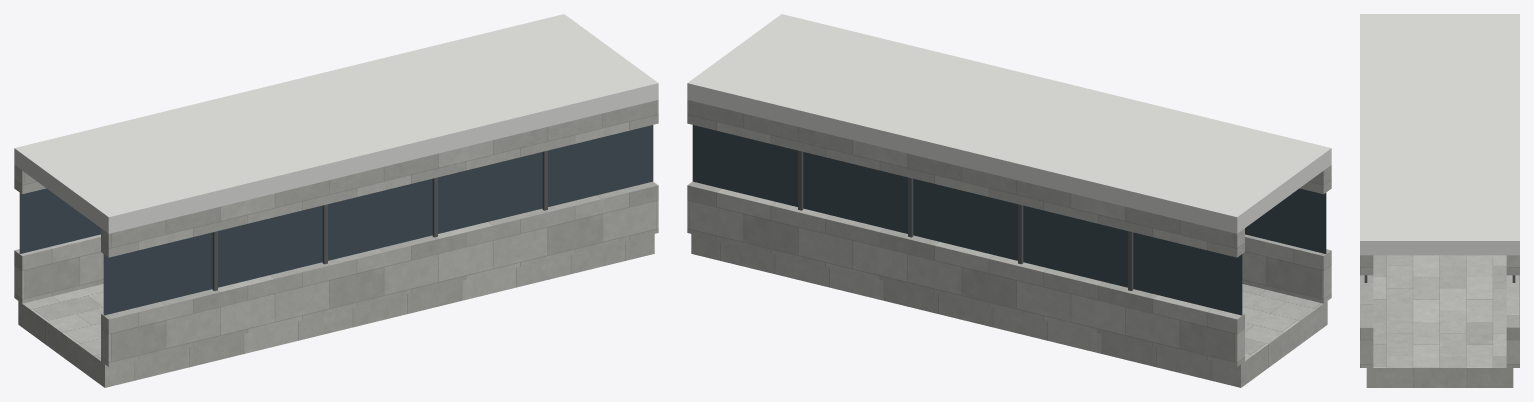
3 renders of one model, left to right at view 1: azimuth 30°, elevation 25°; view 2: azimuth 150°, elevation 25°; view 3: azimuth 270°, elevation 25°, orthographic. The views are drawn at different scales.
Visible parts, largest first — view 1: engineering-sanhak__deck, engineering-sanhak__roofing, engineering-sanhak__glass, engineering-sanhak__frame; view 2: engineering-sanhak__deck, engineering-sanhak__roofing, engineering-sanhak__glass, engineering-sanhak__frame; view 3: engineering-sanhak__roofing, engineering-sanhak__deck.
Boxes of the visible parts, <box> form: engineering-sanhak__deck: <box>14,100,658,387</box>; engineering-sanhak__roofing: <box>14,14,658,233</box>; engineering-sanhak__glass: <box>19,125,653,315</box>; engineering-sanhak__frame: <box>212,150,547,290</box>; engineering-sanhak__deck: <box>687,100,1331,387</box>; engineering-sanhak__roofing: <box>687,14,1331,233</box>; engineering-sanhak__glass: <box>692,125,1326,315</box>; engineering-sanhak__frame: <box>798,150,1133,290</box>; engineering-sanhak__roofing: <box>1360,14,1519,255</box>; engineering-sanhak__deck: <box>1360,255,1519,387</box>.
Bounding box in the file's own units: 12.1 × 3.65 × 3.6.
Materials: 4 (1 with a texture image).
